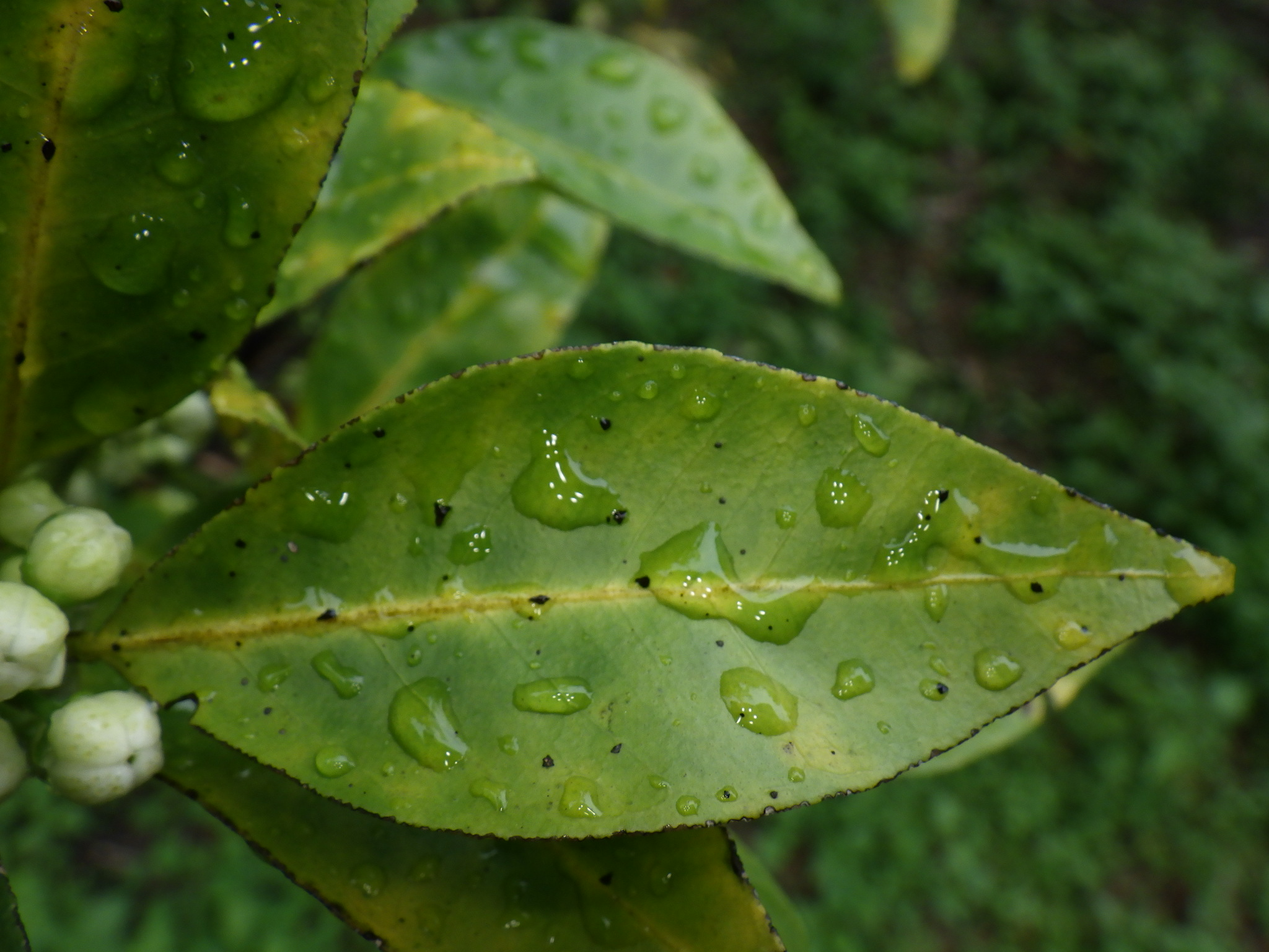Oily_Spot: (78, 343, 1234, 837)
